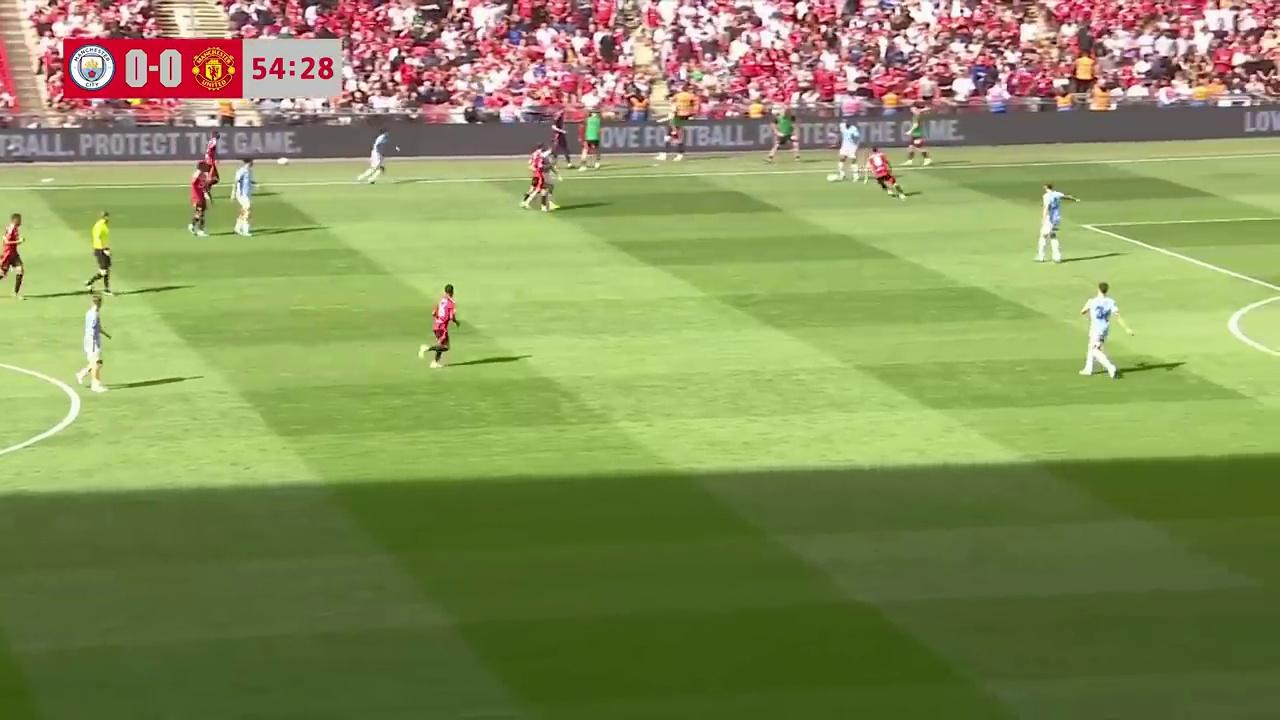player: (1078, 281, 1123, 378), (76, 294, 111, 393), (422, 283, 460, 368), (1033, 183, 1064, 263), (520, 149, 558, 211), (0, 212, 25, 299), (866, 147, 906, 199), (230, 159, 256, 236), (188, 163, 212, 237), (359, 130, 387, 185), (196, 137, 219, 197)
referee: (91, 210, 113, 297)
